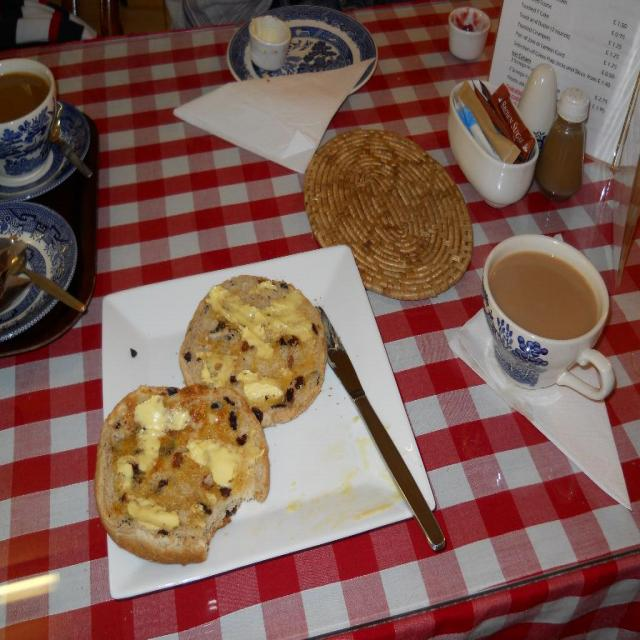Coffee: (489, 220, 611, 388), (0, 67, 51, 126)
Tea: (489, 247, 601, 335), (0, 70, 49, 121)
